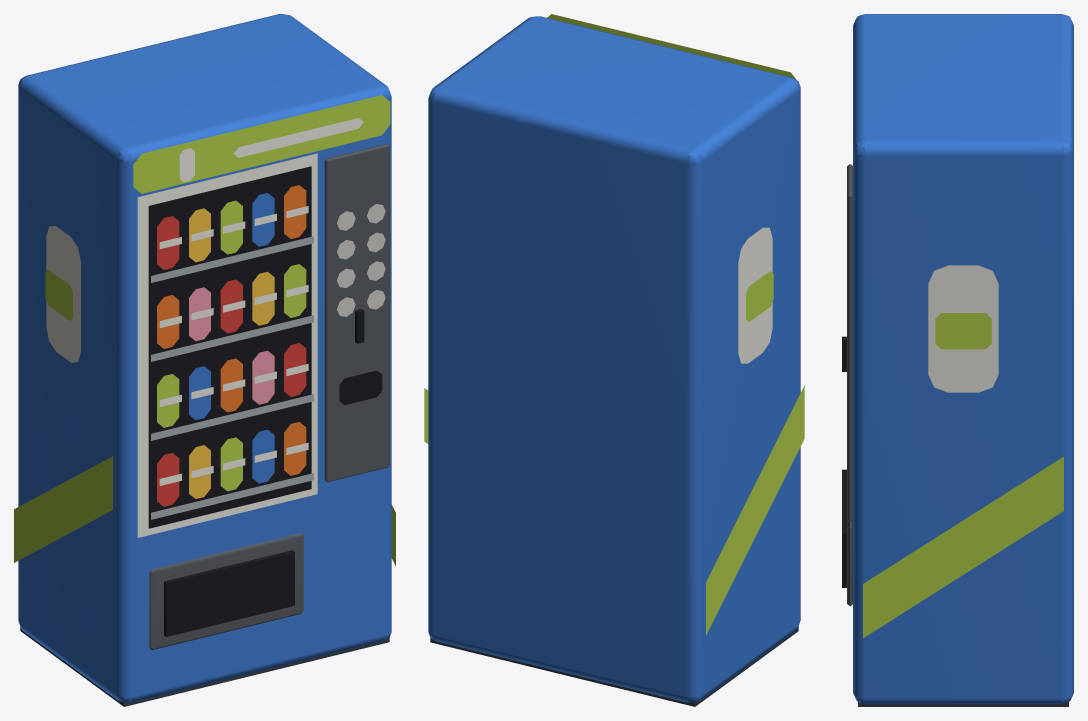
File: ExpendedoraAzul.fbx
The picture shows the model from 3 angles, left to right: view 1: azimuth 30°, elevation 25°; view 2: azimuth 150°, elevation 25°; view 3: azimuth 270°, elevation 25°; orthographic projection.
Visible parts, largest first — view 1: ExpendedoraAzul; view 2: ExpendedoraAzul; view 3: ExpendedoraAzul.
Part boxes in pixels (x1=…): ExpendedoraAzul: x1=14, y1=14, x2=395, y2=706; ExpendedoraAzul: x1=424, y1=14, x2=804, y2=706; ExpendedoraAzul: x1=842, y1=14, x2=1073, y2=706.
Bounding box in the file's own units: 3.4 × 6.2 × 2.4.
Materials: 1 (1 with a texture image).
